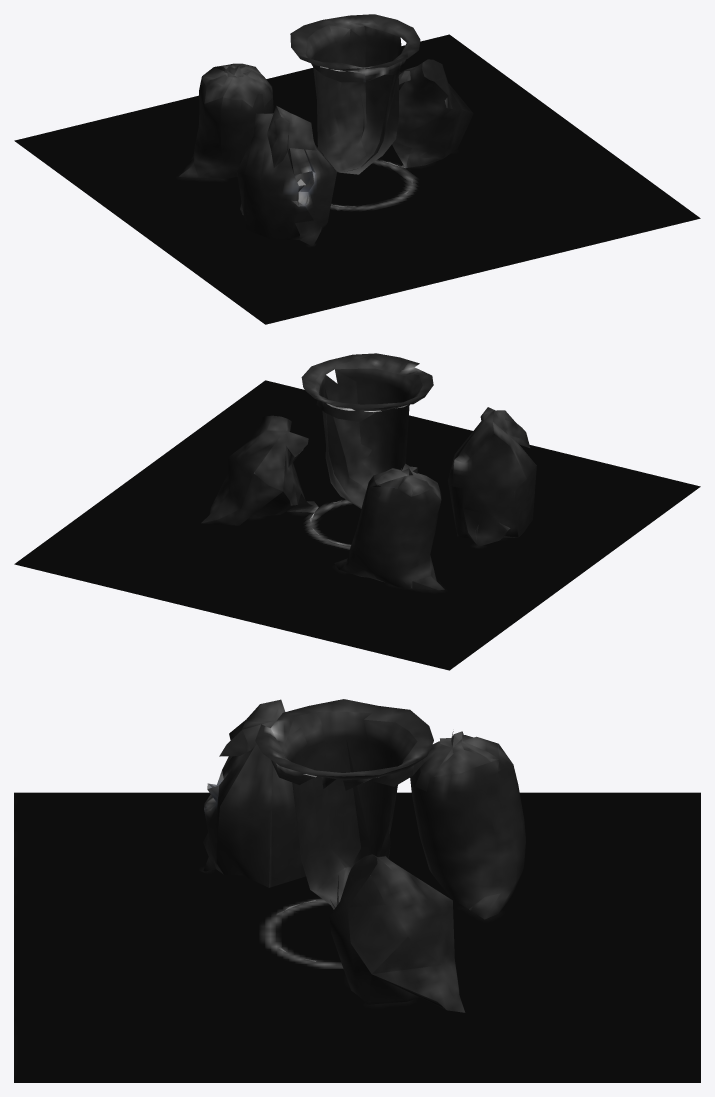
The model's file is bin_bags.glb.
3 views of the same model, one above another, from view 1: azimuth 30°, elevation 25°; view 2: azimuth 150°, elevation 25°; view 3: azimuth 270°, elevation 25° (orthographic). The views are drawn at different scales.
Parts seen in each view (by area): view 1: mesh; view 2: mesh; view 3: mesh.
Part boxes in pixels (left/top/right/bottom): mesh: left=14, top=14, right=700, bottom=324; mesh: left=14, top=353, right=700, bottom=670; mesh: left=14, top=699, right=700, bottom=1082.
Bounding box in the file's own units: 0.2457 × 0.078 × 0.2457.
1 material, 1 textured.
